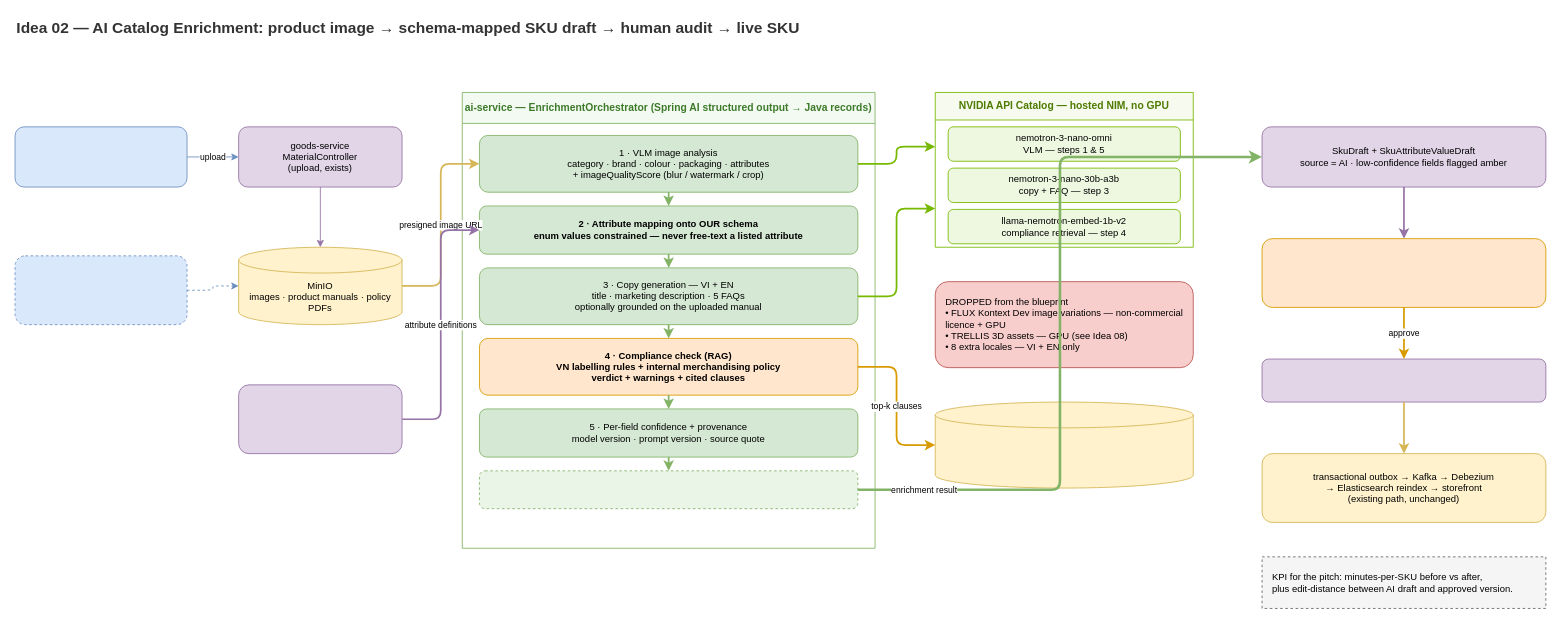
This 1561x624 diagram has some shape labels left out. Here are the shapes that lost their labels. From the top down, the centre of each, then its label:
At (x=100, y=156): "Merchandiser back-office (Angular)".
At (x=100, y=290): "Bulk mode workflow-service flow folder of images → N drafts".
At (x=1403, y=272): "SkuAuditController HUMAN APPROVAL GATE — nothing AI-written goes live unreviewed".
At (x=1403, y=380): "Live SKU / SPU".
At (x=320, y=419): "CategoryAttributeController the real attribute schema injected into the prompt".
At (x=1063, y=444): "Postgres + pgvector ai_policy_chunk (HNSW) image swap: pgvector/pgvector:pg16".
At (x=668, y=489): "6 · ACP / UCP schema export → feeds Idea 03".
